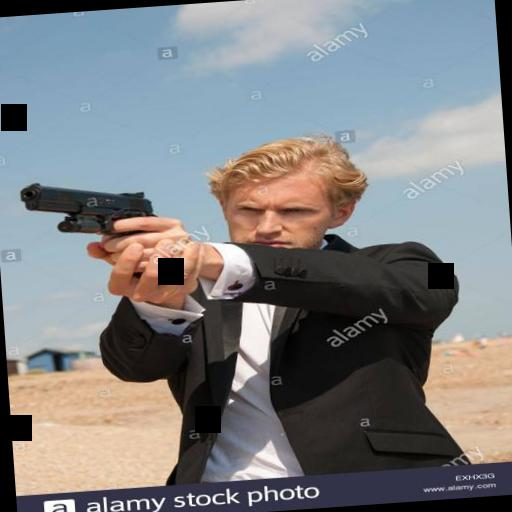Handgun: (18, 172, 170, 248)
